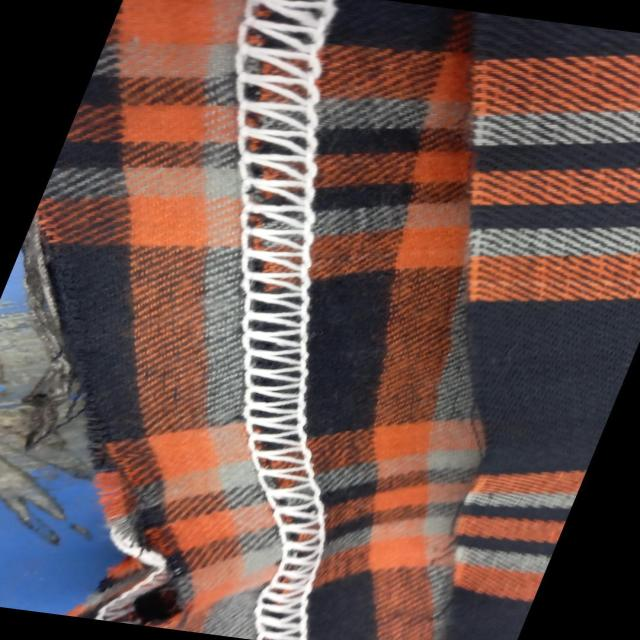gray stitch: (104, 277, 453, 640), (123, 0, 420, 286)
